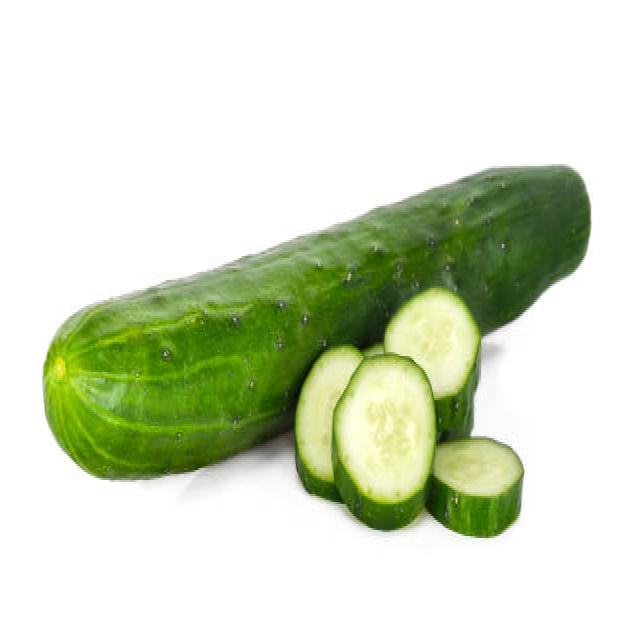cucumber: (43, 164, 591, 482)
